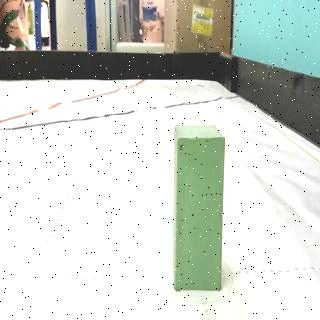greenbox: (174, 122, 223, 290)
